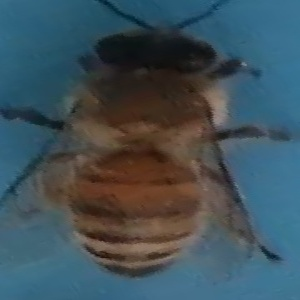bee: (28, 14, 288, 283)
